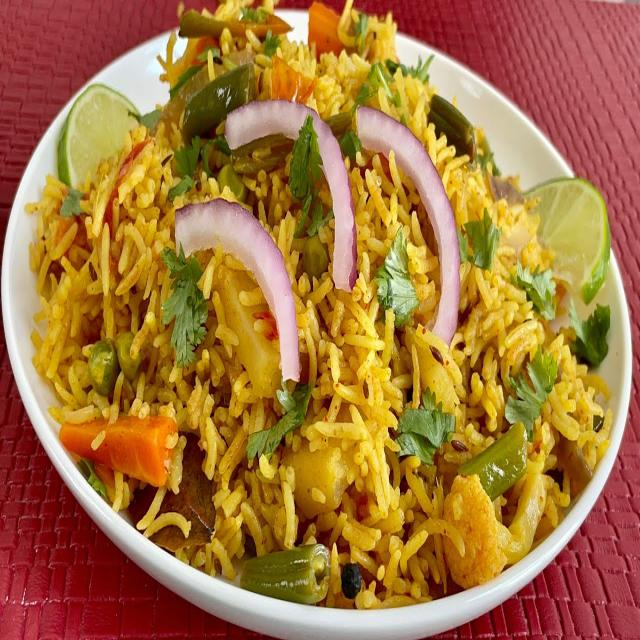veg palav: (16, 0, 633, 624)
